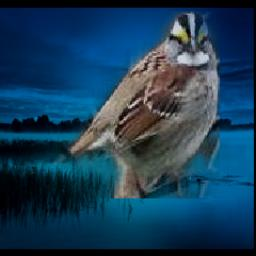Sparrow: (21, 11, 220, 198)
